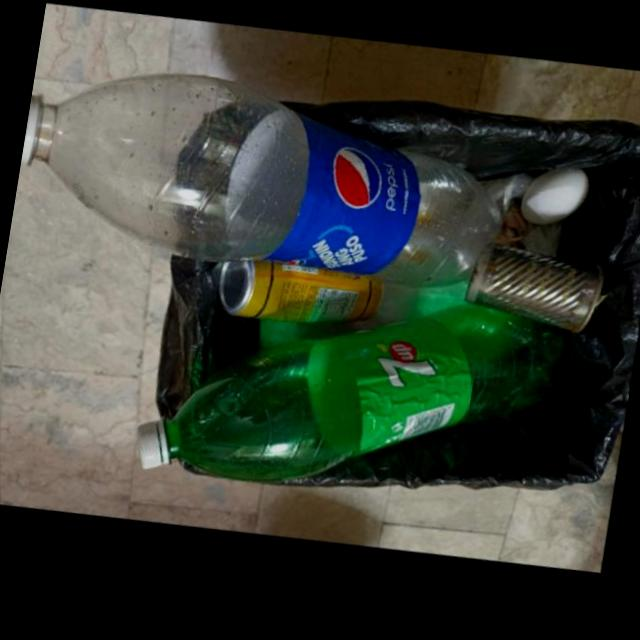chai_nhua: (138, 313, 570, 489)
chai_nhua_pet: (21, 77, 498, 293)
nhom: (467, 254, 608, 345), (219, 262, 387, 330)
vo_trung: (522, 179, 593, 237)
